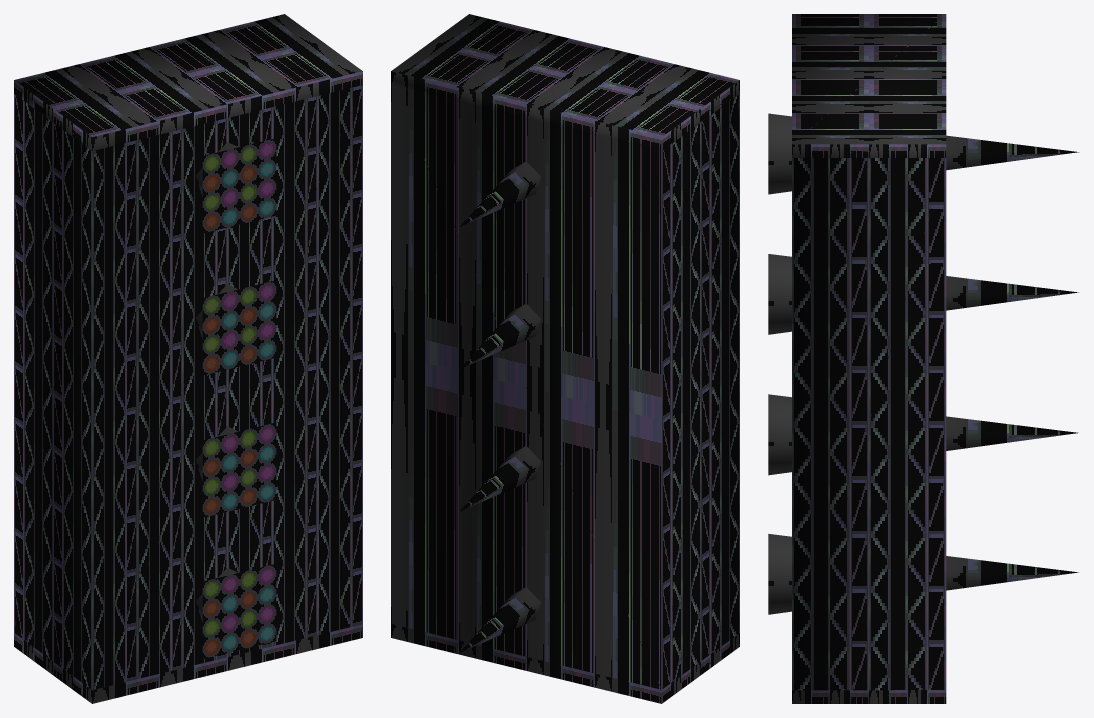
Rendered from 3308IMIG08_05.gltf.
3 views of the same model, side by side, from view 1: azimuth 30°, elevation 25°; view 2: azimuth 150°, elevation 25°; view 3: azimuth 270°, elevation 25° (orthographic).
Parts seen in each view (by area): view 1: 3308IMIG08_05; view 2: 3308IMIG08_05; view 3: 3308IMIG08_05.
Part boxes in pixels (left/top/right/bottom): 3308IMIG08_05: left=14, top=14, right=362, bottom=703; 3308IMIG08_05: left=391, top=14, right=739, bottom=703; 3308IMIG08_05: left=768, top=14, right=1079, bottom=703.
Size of the model in its own units: 0.8999 by 1.8 by 0.9072.
Materials: 4 (4 with a texture image).
